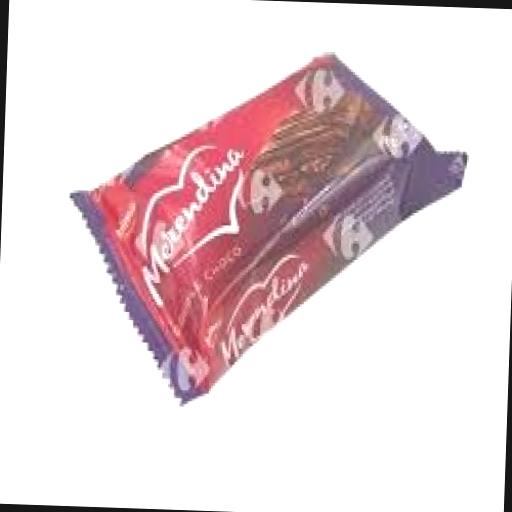merendina: (69, 43, 480, 366)
